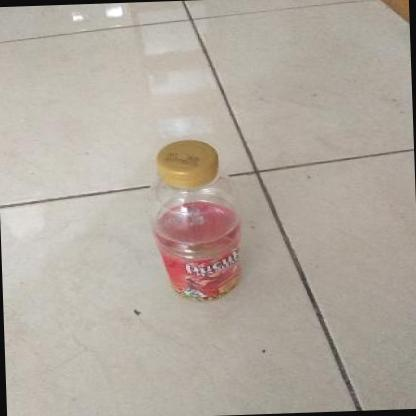plastic_bottles: (146, 135, 252, 306)
